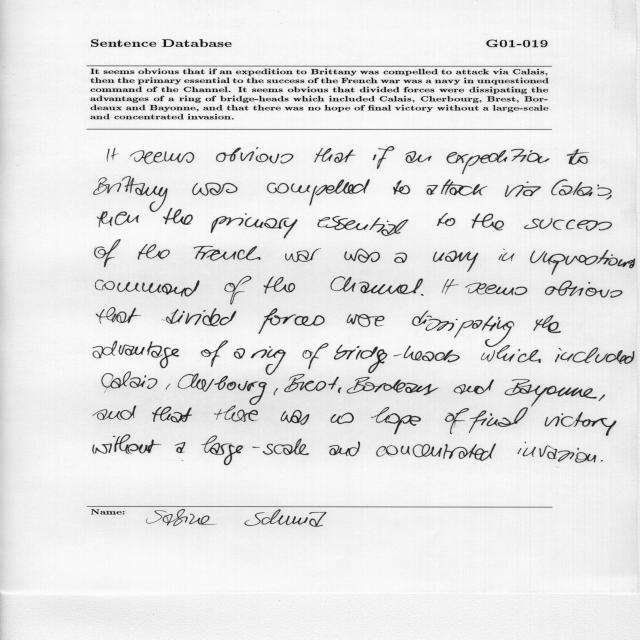word: (412, 310, 514, 347), (334, 345, 460, 373), (201, 436, 309, 466), (178, 373, 267, 405), (267, 179, 370, 206), (93, 176, 168, 212), (530, 250, 635, 275), (447, 149, 550, 174), (504, 379, 597, 406), (93, 341, 179, 368), (210, 214, 298, 239), (376, 443, 496, 461), (318, 216, 409, 236), (95, 280, 200, 297), (258, 308, 325, 334), (545, 412, 617, 436), (330, 276, 423, 294), (347, 377, 439, 395), (518, 442, 596, 463), (469, 407, 528, 433), (545, 280, 622, 298), (555, 347, 635, 364), (162, 309, 237, 327), (371, 407, 421, 434), (216, 147, 293, 164), (93, 435, 161, 454), (102, 372, 158, 393), (524, 218, 612, 231), (481, 345, 541, 363), (551, 179, 612, 196), (427, 179, 487, 196), (251, 346, 286, 375), (194, 246, 261, 261), (284, 374, 339, 392), (433, 251, 478, 272), (130, 150, 194, 164), (224, 276, 252, 305), (96, 307, 142, 324), (94, 239, 121, 267), (465, 283, 527, 295), (214, 406, 258, 422), (201, 341, 228, 367), (303, 343, 329, 369), (97, 212, 139, 228), (152, 407, 192, 423), (314, 148, 356, 163), (445, 408, 469, 434), (93, 406, 136, 420), (454, 380, 494, 395), (192, 183, 238, 196), (505, 181, 541, 197), (472, 214, 504, 231), (344, 248, 380, 263), (264, 277, 295, 294), (138, 244, 170, 260), (163, 208, 193, 225), (285, 248, 321, 262), (533, 315, 561, 333), (373, 146, 394, 169), (347, 314, 384, 327), (329, 442, 360, 457), (281, 410, 309, 425), (567, 149, 589, 165), (405, 151, 432, 163), (330, 413, 354, 424), (442, 279, 458, 294), (393, 180, 410, 194), (437, 213, 455, 226), (107, 148, 119, 162), (499, 252, 515, 261), (394, 253, 407, 263), (234, 348, 245, 359), (175, 442, 186, 453), (599, 395, 605, 401), (606, 195, 612, 200), (274, 388, 278, 395), (166, 384, 170, 390), (338, 388, 341, 394), (421, 294, 424, 296), (601, 460, 603, 462)
